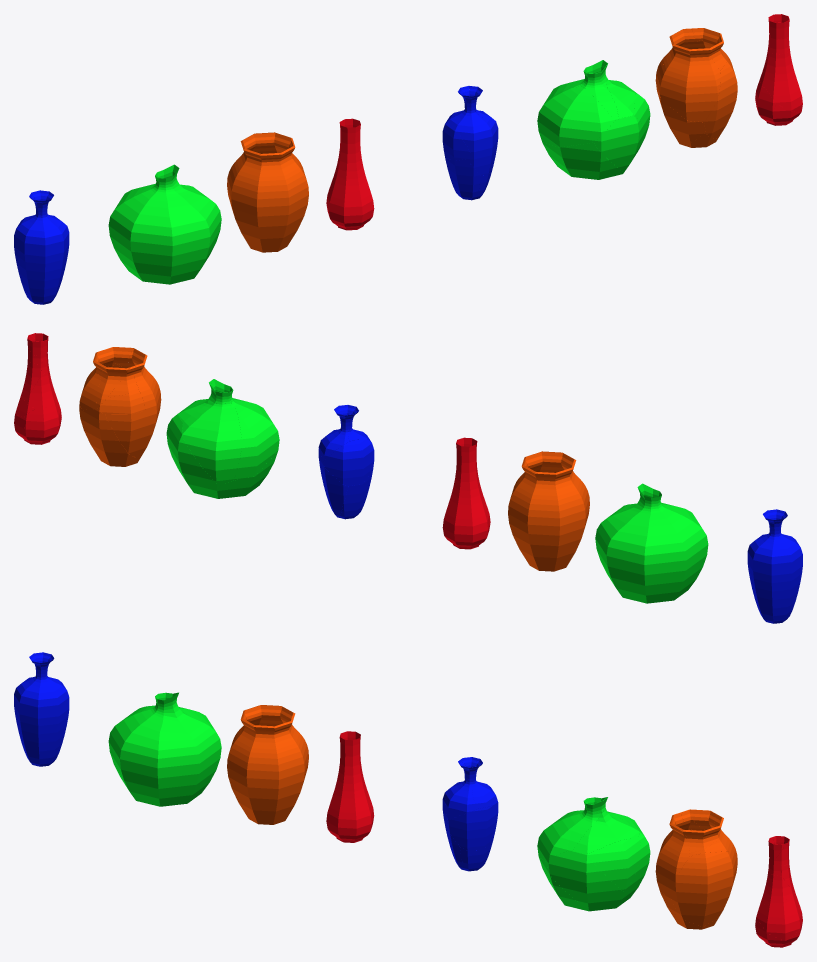
The model's file is Vazolar.fbx.
3 views of the same model, one above another, from view 1: azimuth 30°, elevation 25°; view 2: azimuth 150°, elevation 25°; view 3: azimuth 330°, elevation 25° (orthographic).
Visible parts, largest first — view 1: NurbsPath.003, NurbsPath.006, NurbsPath.002, NurbsPath.001_cell.002, NurbsPath.005, NurbsPath.007_cell.001, NurbsPath.007_cell.007, NurbsPath.007_cell.003, NurbsPath.001_cell.008, NurbsPath.008_cell.008, NurbsPath.008_cell, NurbsPath.004_cell.007 (+8 smaller); view 2: NurbsPath.003, NurbsPath.006, NurbsPath.002, NurbsPath.007_cell.008, NurbsPath.005, NurbsPath.007_cell.001, NurbsPath.008_cell.007, NurbsPath.001_cell.001, NurbsPath.007_cell.002, NurbsPath.001_cell.003, NurbsPath.004_cell.001, NurbsPath.001_cell.002 (+8 smaller); view 3: NurbsPath.003, NurbsPath.006, NurbsPath.002, NurbsPath.001_cell.008, NurbsPath.005, NurbsPath.007_cell.003, NurbsPath.007_cell.009, NurbsPath.001_cell.002, NurbsPath.008_cell.004, NurbsPath.007_cell.006, NurbsPath.004_cell, NurbsPath.007_cell.001 (+6 smaller).
Part boxes in pixels (x1,y1,x2,y2): NurbsPath.003: (108,164,221,284); NurbsPath.006: (227,132,308,252); NurbsPath.002: (14,190,69,304); NurbsPath.001_cell.002: (658,40,720,122); NurbsPath.005: (326,118,374,230); NurbsPath.007_cell.001: (537,86,614,147); NurbsPath.007_cell.007: (542,142,623,179); NurbsPath.007_cell.003: (593,115,644,172); NurbsPath.001_cell.008: (704,55,737,138); NurbsPath.008_cell.008: (455,103,494,153); NurbsPath.008_cell: (445,157,480,200); NurbsPath.004_cell.007: (760,51,795,89); NurbsPath.003: (595,483,708,603); NurbsPath.006: (508,451,589,571); NurbsPath.002: (747,509,802,623); NurbsPath.007_cell.008: (182,403,241,485); NurbsPath.005: (442,437,490,549); NurbsPath.007_cell.001: (234,401,279,480); NurbsPath.008_cell.007: (323,439,374,486); NurbsPath.001_cell.001: (80,409,139,466); NurbsPath.007_cell.002: (166,414,220,496); NurbsPath.001_cell.003: (105,411,157,459); NurbsPath.004_cell.001: (24,404,61,444); NurbsPath.001_cell.002: (127,348,161,418); NurbsPath.003: (108,692,221,806); NurbsPath.006: (227,705,308,824); NurbsPath.002: (14,652,69,766); NurbsPath.001_cell.008: (671,851,737,926); NurbsPath.005: (326,731,374,842); NurbsPath.007_cell.003: (546,851,625,910); NurbsPath.007_cell.009: (586,837,640,892); NurbsPath.001_cell.002: (655,812,689,898); NurbsPath.008_cell.004: (447,803,498,850); NurbsPath.007_cell.006: (572,811,639,854); NurbsPath.004_cell: (756,895,801,941); NurbsPath.007_cell.001: (537,810,581,861).
Bounding box in the file's own units: 3797 × 485 × 444.
